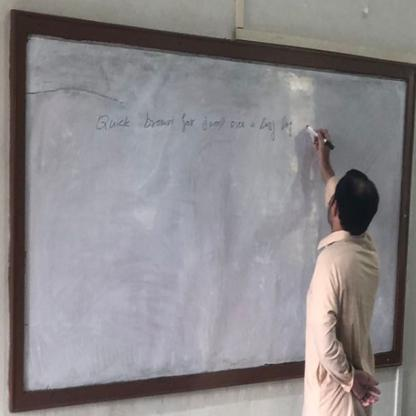Handwritten text: (82, 104, 295, 144)
Lecturer: (303, 161, 391, 409)
Whiteboard: (8, 31, 411, 416)
